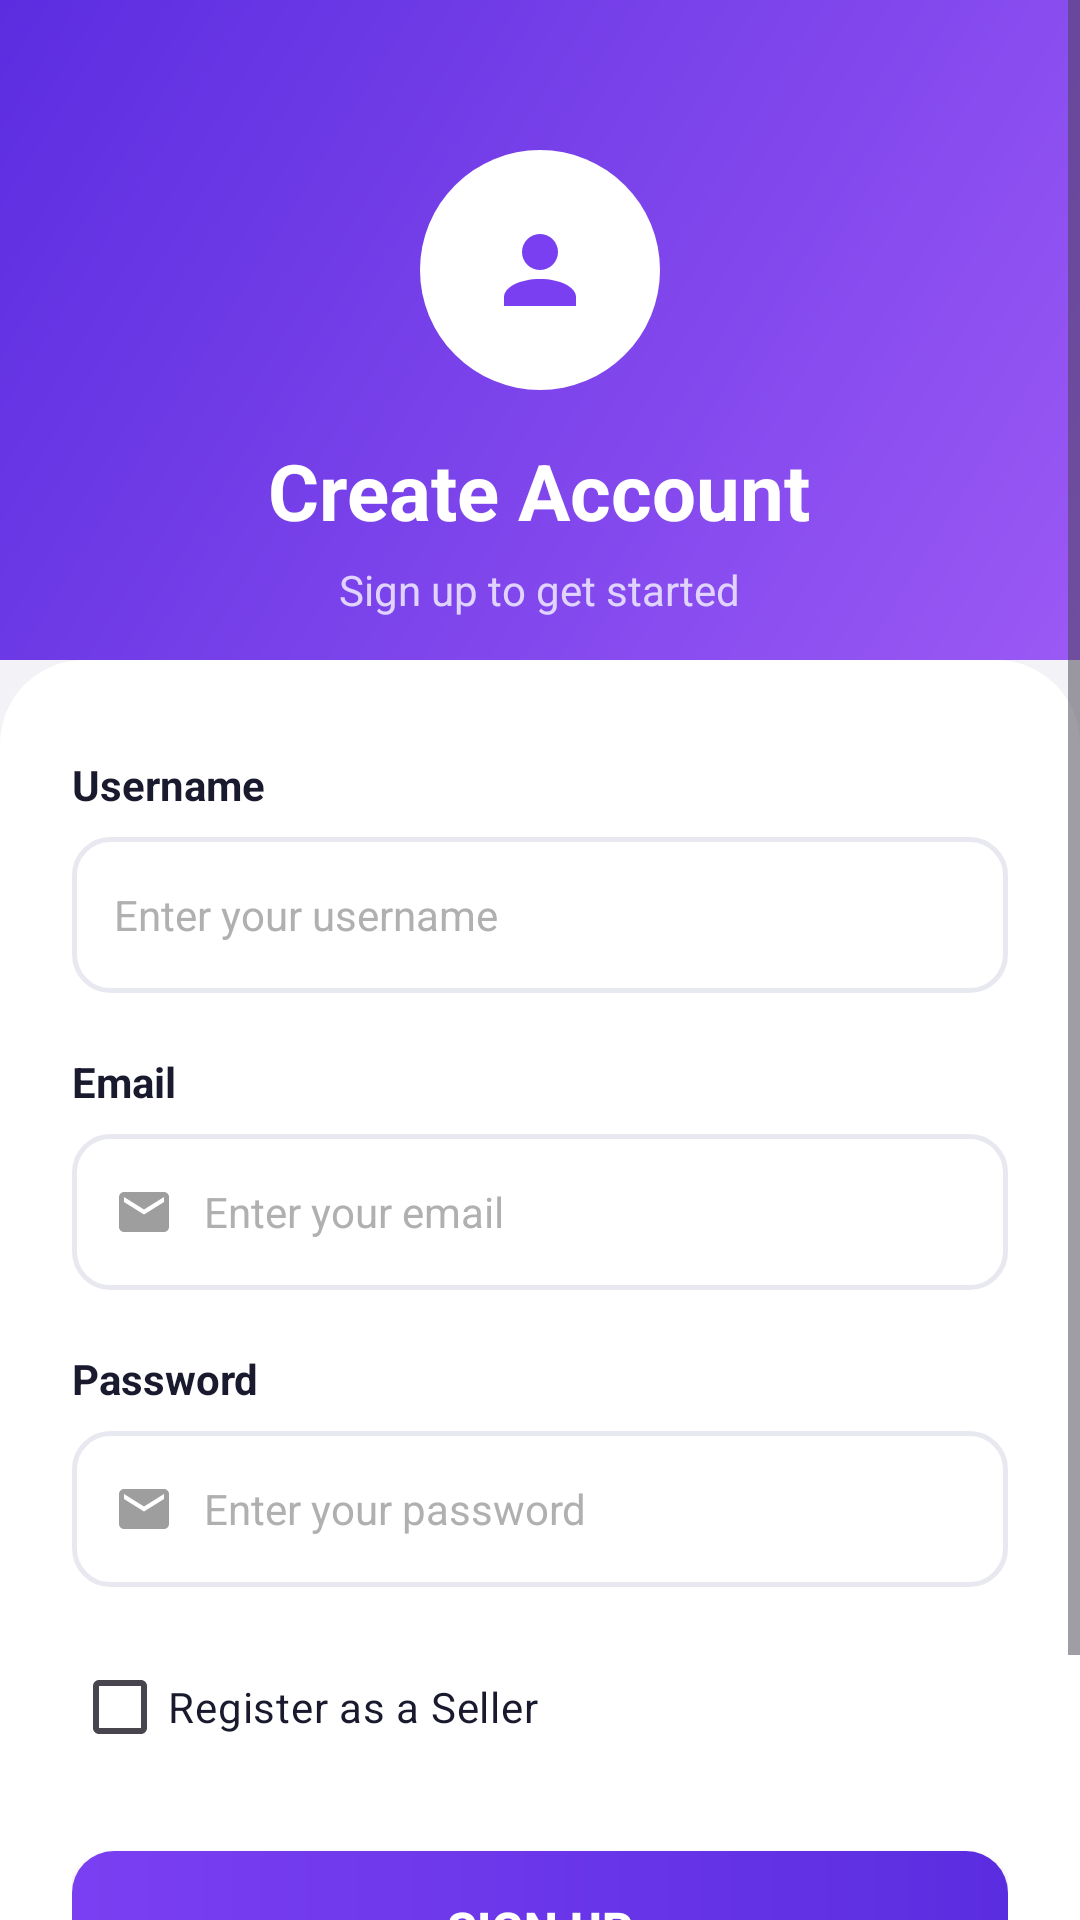

Point at icon controls on the screen. Image size 1080×1920, points as point (x, y).
person: point (540, 270)
